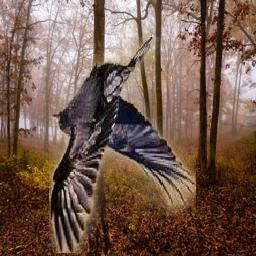Crow: (50, 37, 197, 253)
